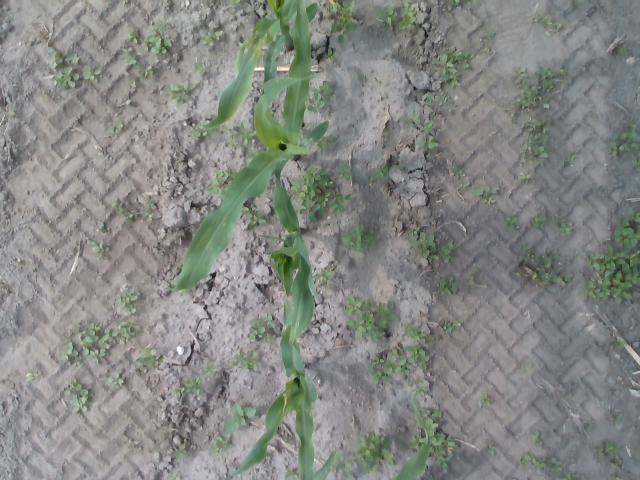Maize: (168, 0, 330, 290), (199, 0, 319, 130), (232, 300, 318, 480), (258, 158, 314, 342), (395, 391, 430, 480), (312, 450, 338, 480)
Weeds: (58, 319, 141, 369), (369, 322, 434, 384), (583, 236, 640, 304), (291, 164, 352, 222), (506, 64, 570, 118), (516, 242, 574, 286), (344, 295, 398, 342), (46, 46, 101, 88), (433, 46, 472, 88), (353, 431, 392, 473), (399, 110, 438, 150), (120, 47, 156, 88), (328, 0, 360, 44), (522, 118, 552, 161), (612, 207, 640, 249), (430, 434, 460, 473), (112, 198, 156, 224), (224, 402, 256, 436), (608, 124, 640, 158), (408, 226, 440, 260), (64, 378, 92, 415), (342, 224, 379, 252), (144, 20, 173, 55), (518, 452, 564, 474), (245, 314, 278, 344), (230, 348, 261, 376), (223, 122, 256, 147), (308, 80, 332, 114), (419, 90, 453, 114), (135, 346, 163, 374), (172, 378, 203, 403), (204, 168, 229, 198), (169, 80, 196, 107), (116, 284, 140, 314), (593, 438, 619, 463), (398, 1, 418, 33), (242, 205, 268, 228), (421, 408, 443, 434), (534, 12, 564, 31), (209, 436, 233, 459), (550, 212, 573, 236), (376, 3, 399, 24), (434, 276, 458, 296), (366, 164, 390, 184), (202, 29, 224, 48), (529, 207, 545, 232), (88, 240, 110, 258), (190, 120, 213, 137), (108, 372, 128, 391), (335, 455, 352, 477), (440, 240, 460, 258), (481, 29, 496, 52), (442, 318, 463, 334), (317, 135, 339, 150), (313, 269, 336, 282), (466, 266, 480, 286), (476, 185, 501, 196), (609, 336, 626, 351), (107, 120, 125, 134), (200, 364, 218, 378), (408, 434, 423, 448), (285, 466, 300, 480), (126, 29, 142, 42), (175, 449, 191, 462), (452, 165, 467, 178), (323, 48, 338, 60), (555, 473, 580, 480), (532, 430, 545, 443), (616, 44, 630, 56), (610, 456, 622, 470), (194, 61, 206, 74), (25, 370, 38, 382), (562, 152, 575, 164), (504, 216, 516, 229), (608, 414, 623, 423), (227, 0, 241, 9), (520, 361, 532, 371), (481, 393, 493, 403), (632, 158, 640, 172), (166, 474, 182, 480), (484, 197, 496, 205), (606, 474, 620, 480), (358, 74, 368, 82), (416, 390, 426, 398), (488, 444, 495, 455), (246, 151, 256, 158), (450, 0, 461, 6), (520, 174, 532, 179), (585, 423, 593, 430), (97, 222, 106, 228), (566, 393, 574, 399), (123, 0, 130, 5), (508, 476, 516, 480), (596, 184, 601, 188)
